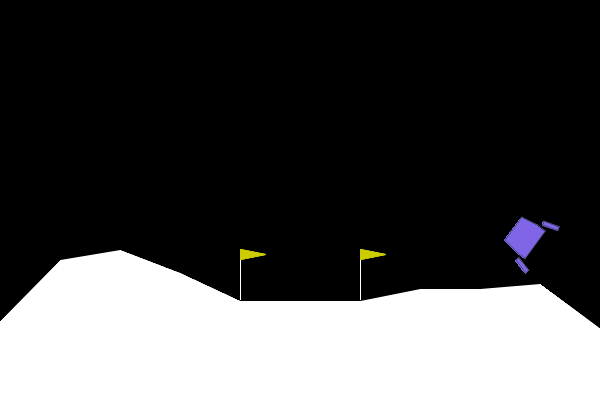lander: (494, 204, 561, 276)
